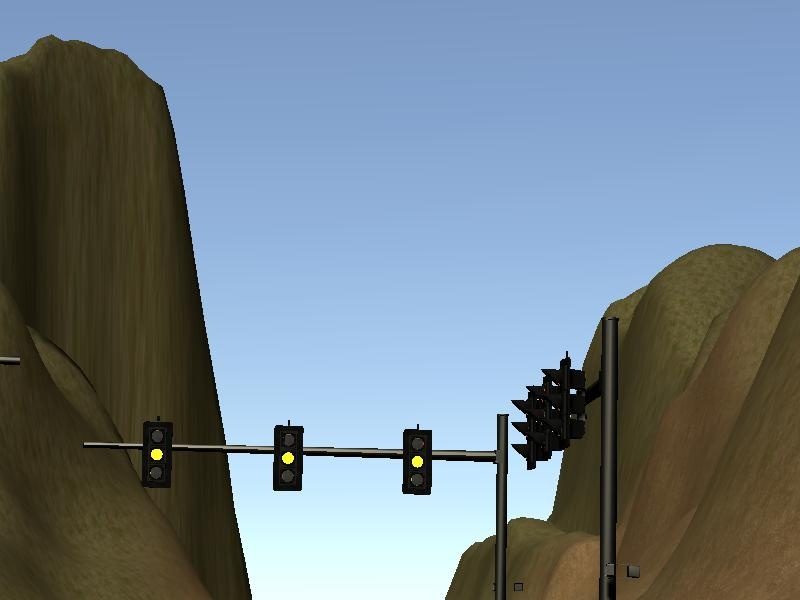yellow: (143, 420, 174, 489), (273, 426, 303, 490), (402, 429, 431, 495)
